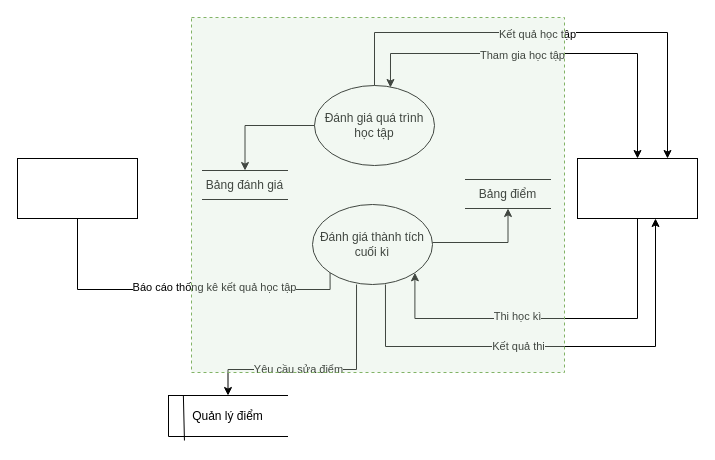
The diagram is 715 pixels wide and 460 high, and some of its shapes have lost their labels. Here are the shapes that lost their labels. From the top down, the box of each, then its label:
(16, 158, 138, 218): BAN GIÁM HIỆU
(576, 158, 698, 218): HỌC SINH
